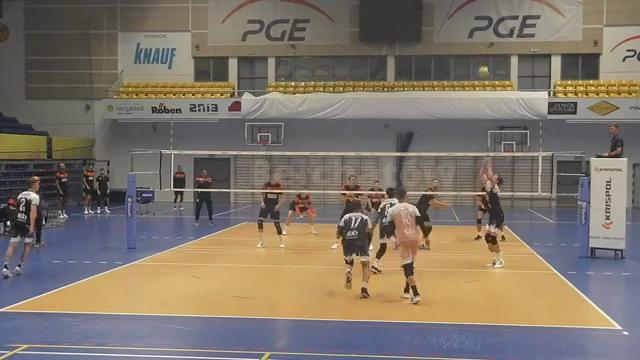alzata: (472, 149, 513, 272)
